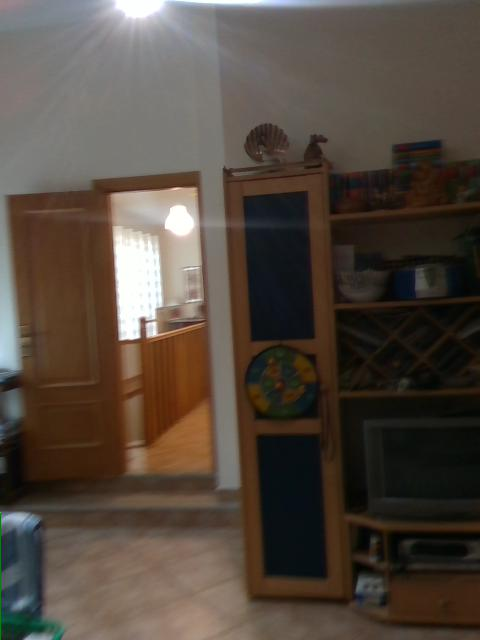open_door: (85, 167, 220, 488)
